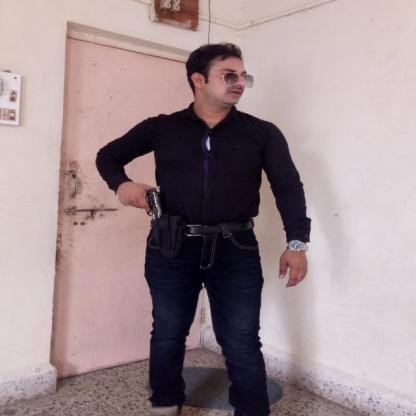handgun: (124, 184, 170, 228)
